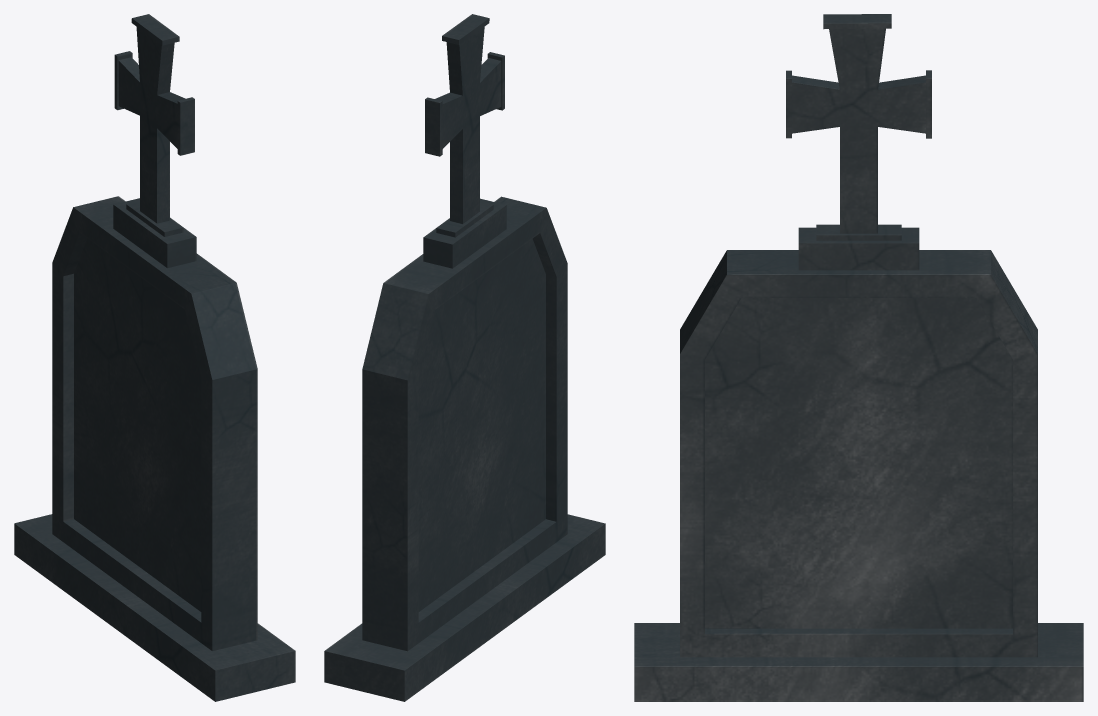
Rendered from Gravestone17_Model.fbx.
3 views of the same model, side by side, from view 1: azimuth 30°, elevation 25°; view 2: azimuth 150°, elevation 25°; view 3: azimuth 270°, elevation 25° (orthographic). The views are drawn at different scales.
Visible parts, largest first — view 1: Gravestone17; view 2: Gravestone17; view 3: Gravestone17.
Boxes of the visible parts, x1,y1,x2,y2 form: Gravestone17: [14, 14, 295, 701]; Gravestone17: [324, 14, 605, 701]; Gravestone17: [634, 14, 1083, 701].
Size of the model in its own units: 8.85 by 62.19 by 38.31.
